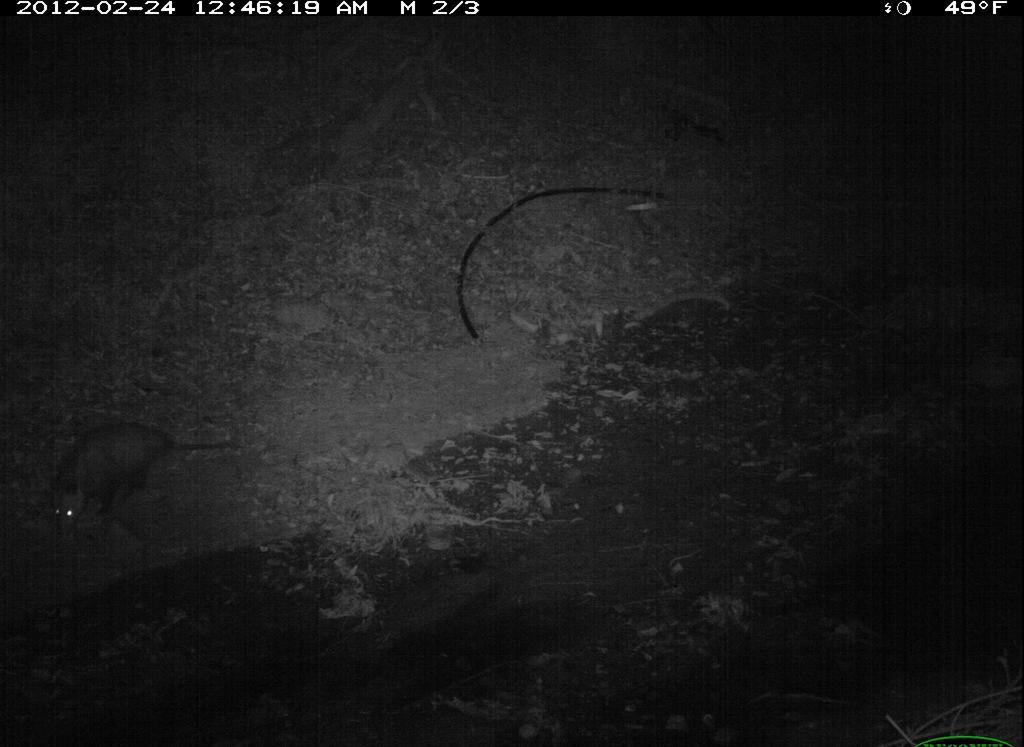opossum: (36, 410, 245, 556)
